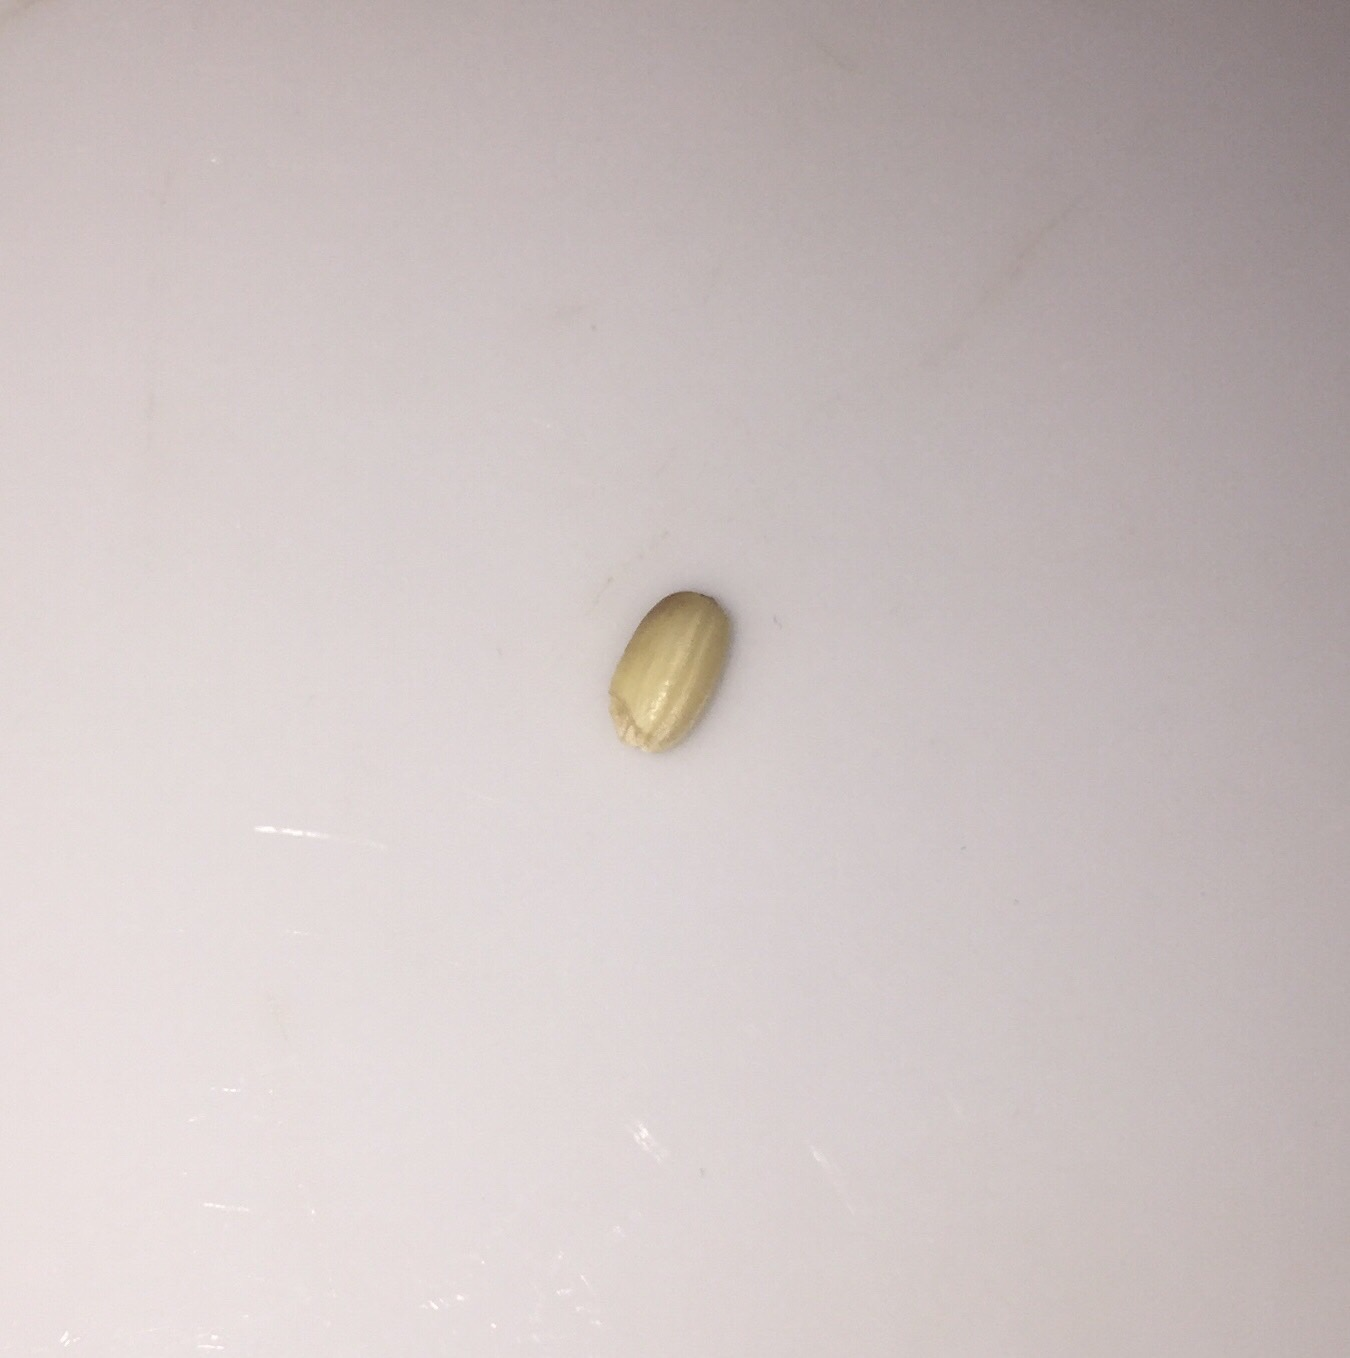Gao Lut Bac: (579, 573, 759, 767)
